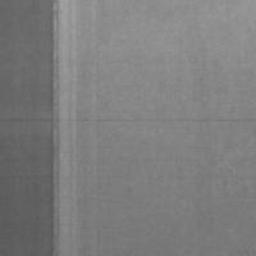Welding line: (51, 0, 59, 256)
